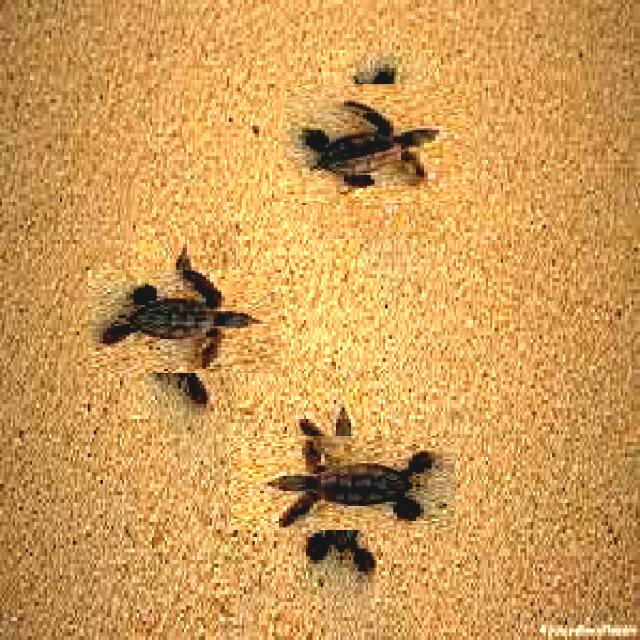Sea turtle: (264, 403, 423, 563), (301, 67, 457, 222), (110, 248, 259, 396)
